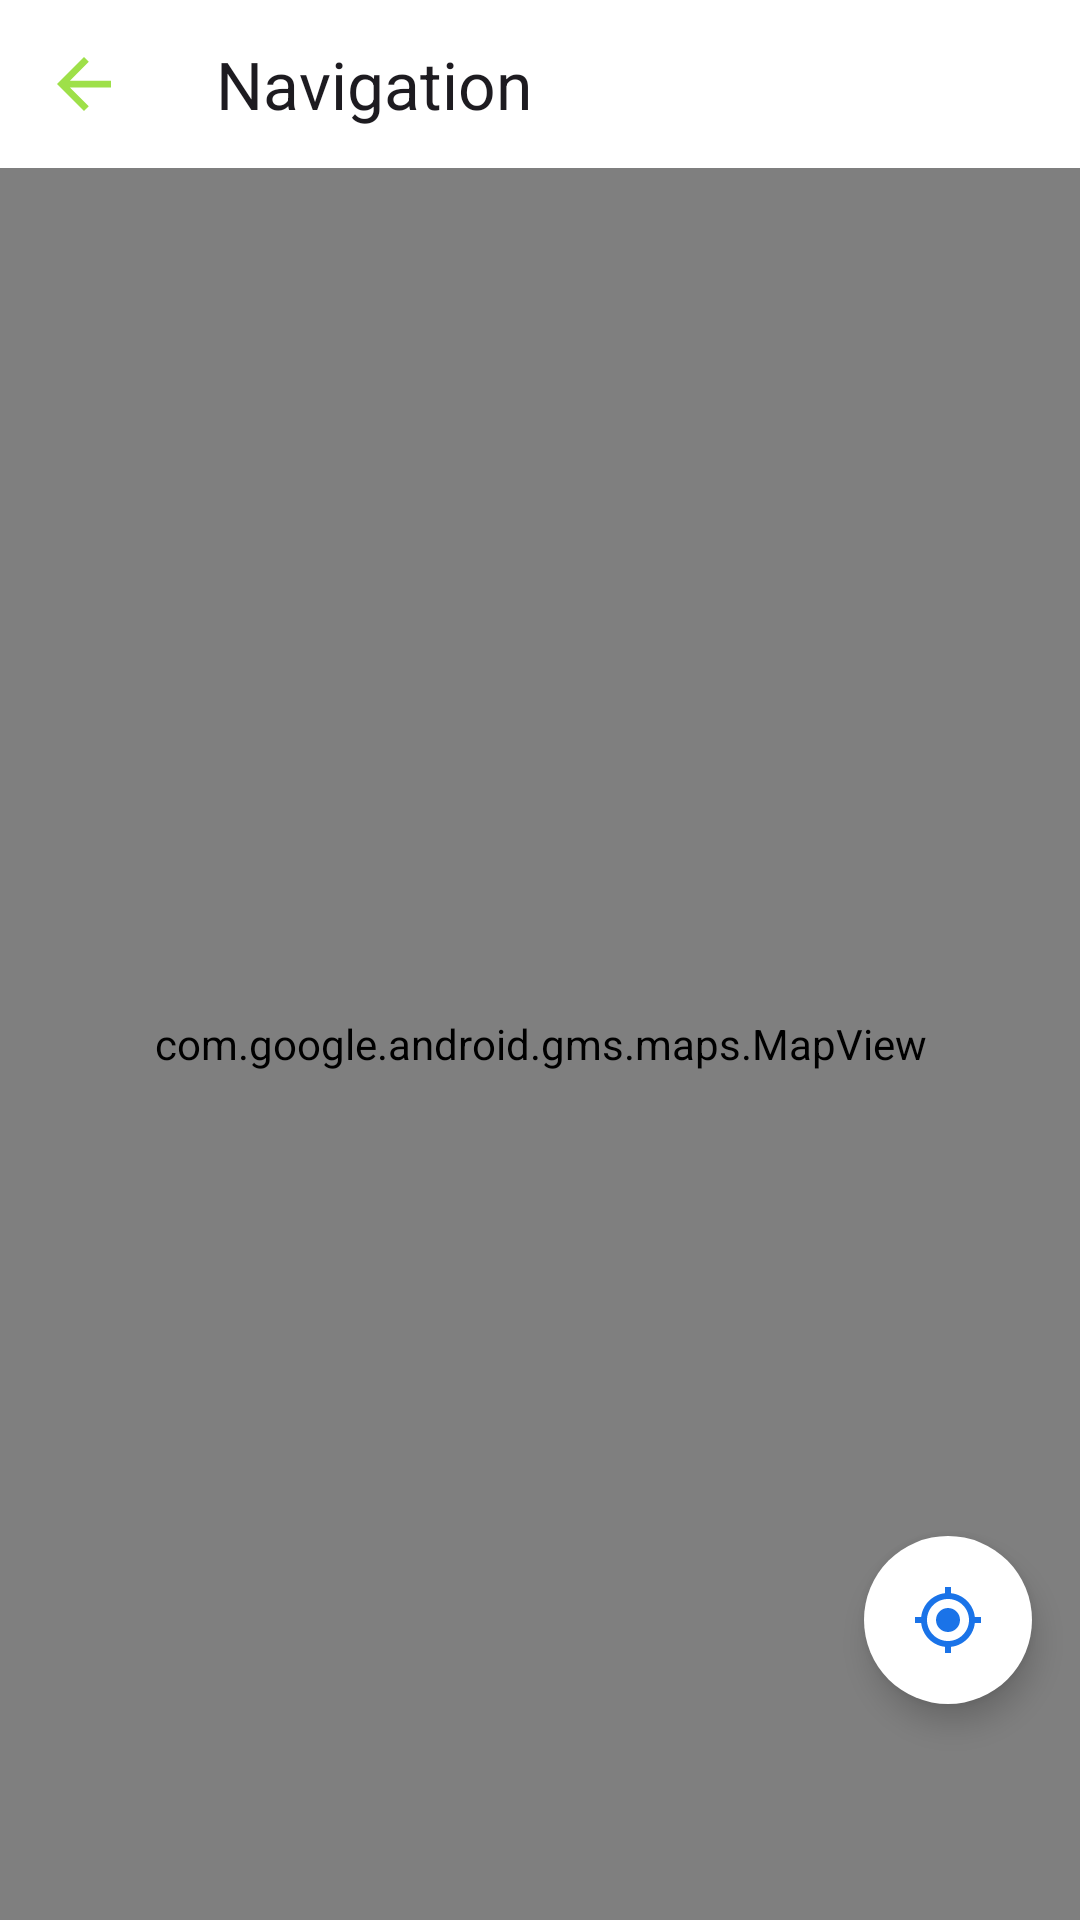

Named icons in this screenshot (1080px×1920px) and their centers, [x,y]:
arrow back: [84,84]
location: [948,1620]
